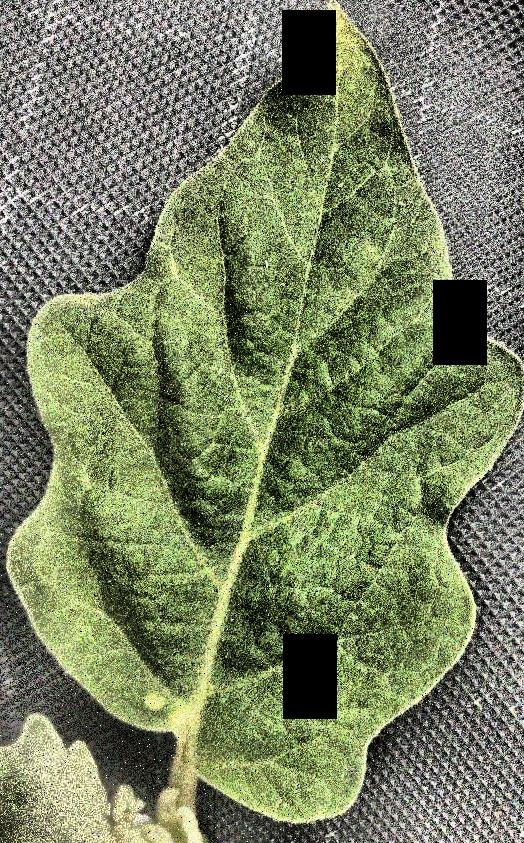HEALTHY: (1, 0, 524, 843)
